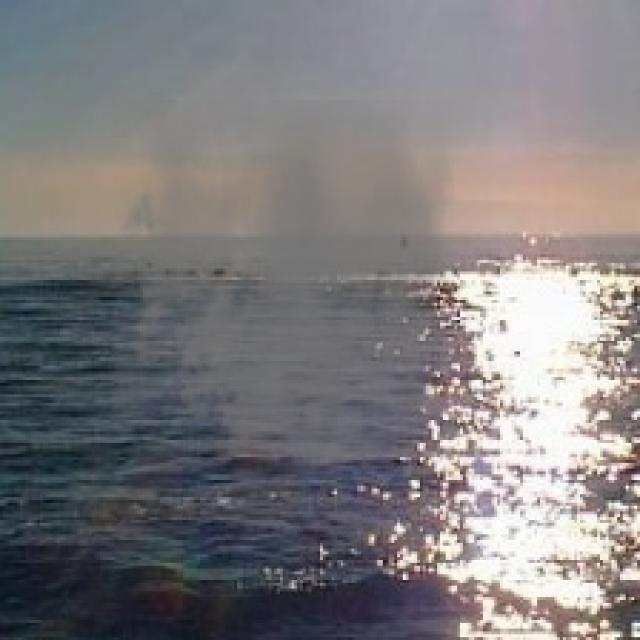smoke: (112, 100, 454, 497)
